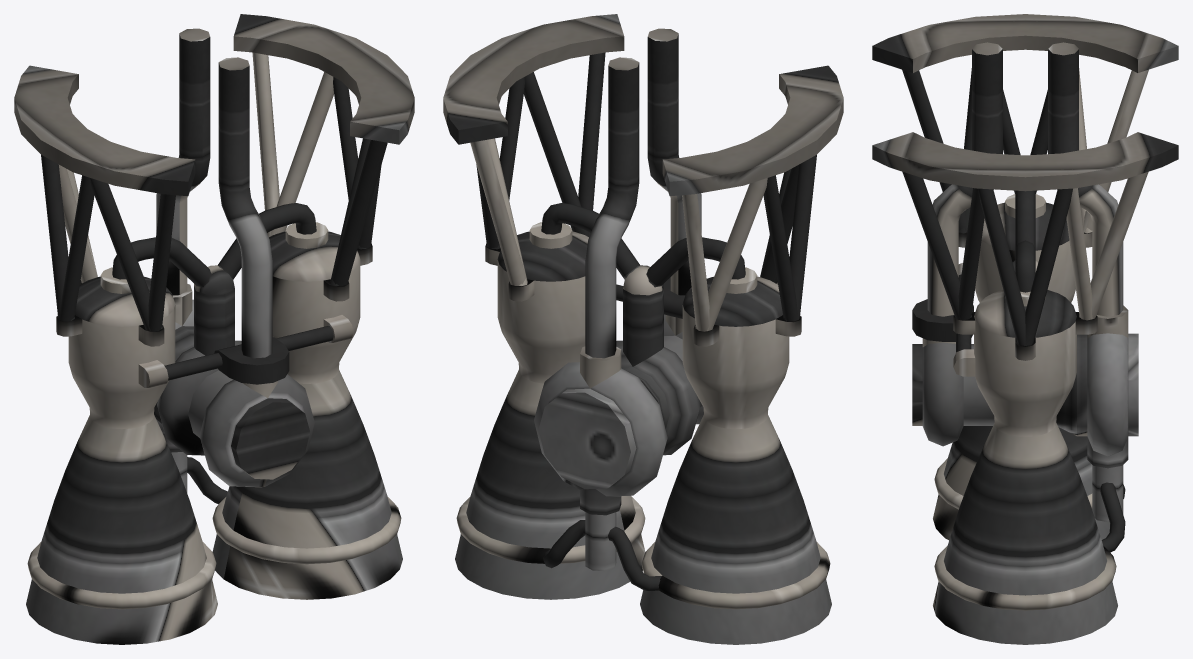
File: COMPACT lower stage engine.obj
3 views of the same model, side by side, from view 1: azimuth 30°, elevation 25°; view 2: azimuth 150°, elevation 25°; view 3: azimuth 270°, elevation 25° (orthographic). The views are drawn at different scales.
Visible parts, largest first — view 1: compact; view 2: compact; view 3: compact.
Boxes of the visible parts, x1,y1,x2,y2 form: compact: (14,14,414,644); compact: (443,14,843,644); compact: (872,14,1178,644).
Bounding box in the file's own units: 0.95 × 1.37 × 0.7438.
